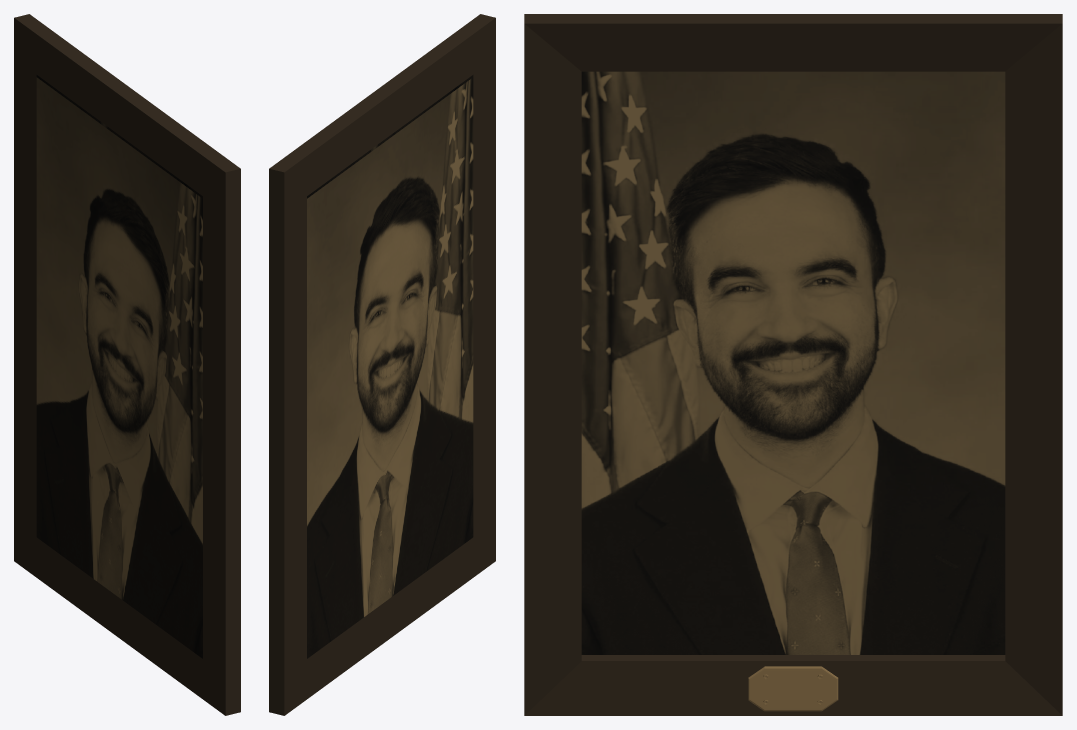
File: president.fbx
3 views of the same model, side by side, from view 1: azimuth 30°, elevation 25°; view 2: azimuth 150°, elevation 25°; view 3: azimuth 270°, elevation 25° (orthographic). The views are drawn at different scales.
Visible parts, largest first — view 1: Cube.001, Cube; view 2: Cube.001, Cube; view 3: Cube.001, Cube.
Boxes of the visible parts, x1=… form: Cube.001: x1=36, y1=75, x2=202, y2=658; Cube: x1=14, y1=14, x2=240, y2=715; Cube.001: x1=307, y1=75, x2=473, y2=658; Cube: x1=269, y1=14, x2=495, y2=715; Cube.001: x1=581, y1=71, x2=1005, y2=654; Cube: x1=524, y1=14, x2=1062, y2=715.
Bounding box in the file's own units: 9.81 × 284 × 200.
